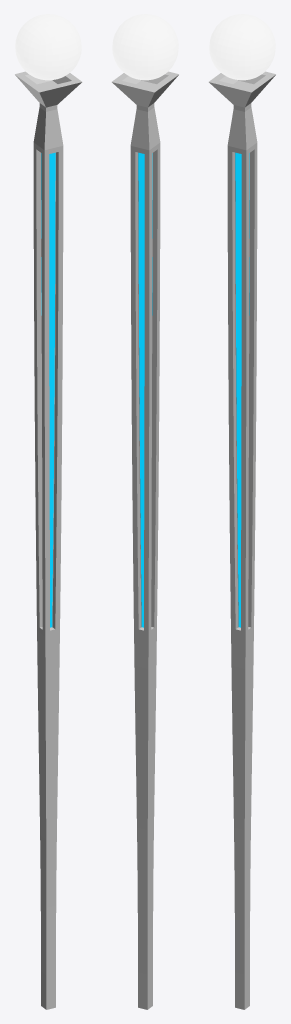
Rendered from heaven-staff.glb.
3 renders of one model, left to right at view 1: azimuth 30°, elevation 25°; view 2: azimuth 150°, elevation 25°; view 3: azimuth 330°, elevation 25°, orthographic.
Visible parts, largest first — view 1: wand, magic core; view 2: wand, magic core; view 3: wand, magic core.
Part boxes in pixels (left/top/right/bottom): wand: left=15, top=71, right=81, bottom=1009; magic core: left=15, top=14, right=81, bottom=80; wand: left=112, top=71, right=178, bottom=1009; magic core: left=112, top=14, right=178, bottom=80; wand: left=209, top=71, right=275, bottom=1009; magic core: left=209, top=14, right=275, bottom=80.
Size of the model in its own units: 0.1206 by 1.99 by 0.1206.
